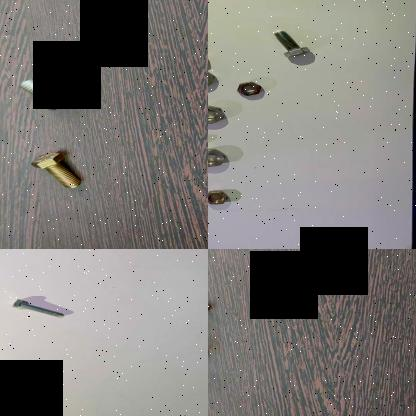Bolts: (15, 71, 79, 115), (28, 152, 82, 192), (266, 28, 314, 60), (8, 296, 67, 322)
NUTS: (234, 78, 268, 100), (208, 187, 240, 208), (208, 144, 229, 172), (208, 103, 230, 125), (208, 70, 224, 92)
